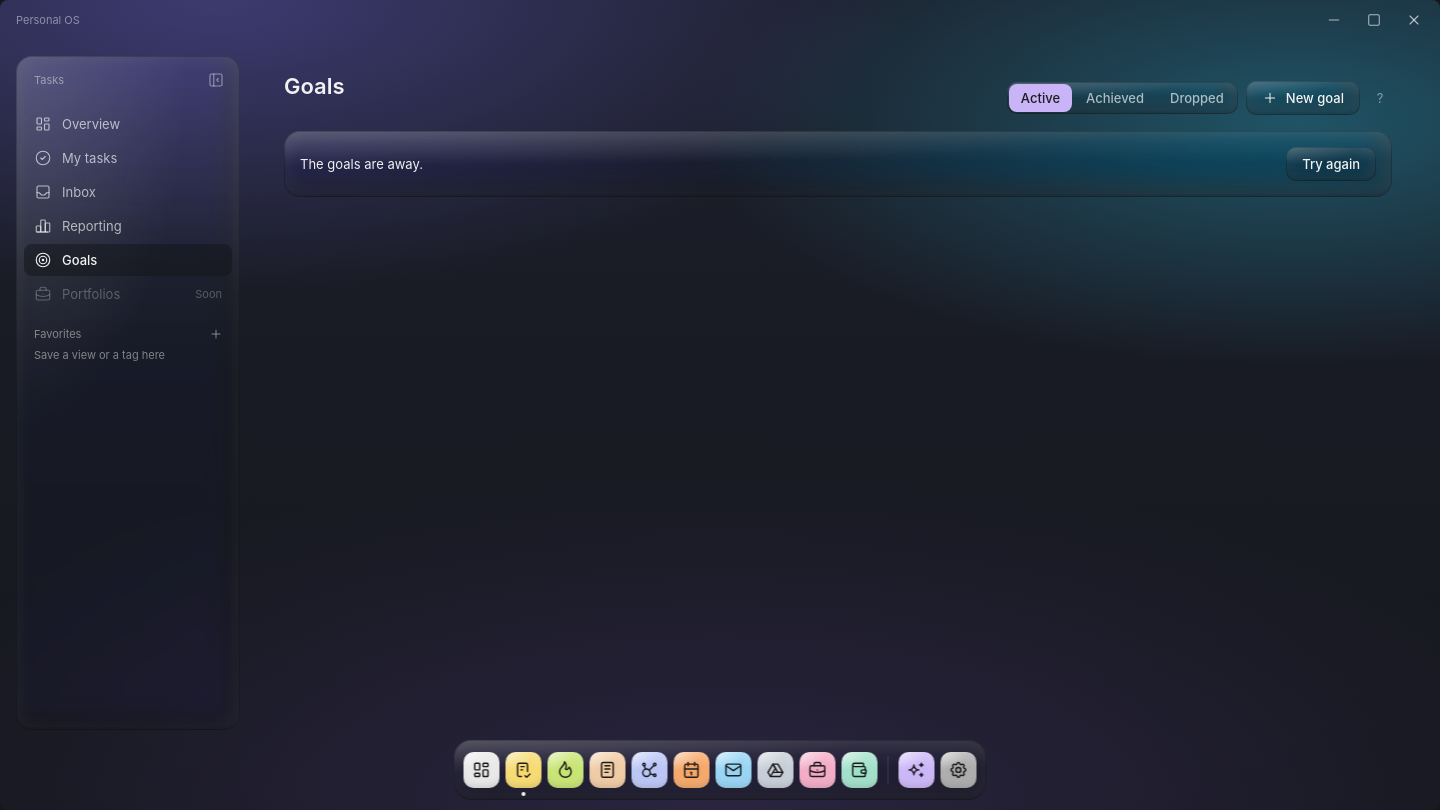
Test: states › shows the server message with Try again on an error, and recovers
Expected: the message shows "The goals are away.", [300,156,423,172]
Click the button "Try again": (1331, 164) [1286,147,1376,181]
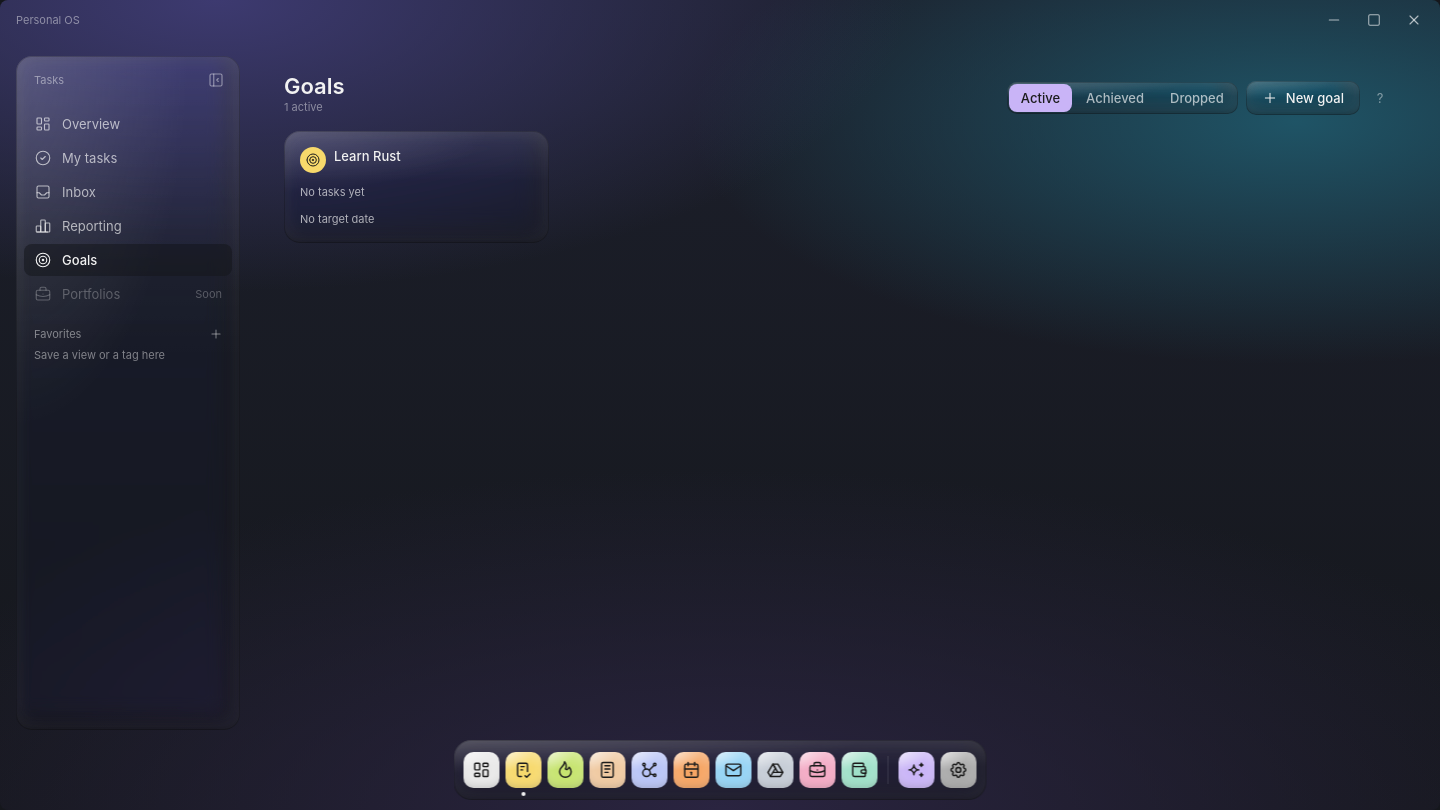
Expected: the link "Learn Rust" is shown, [334,148,401,164]
